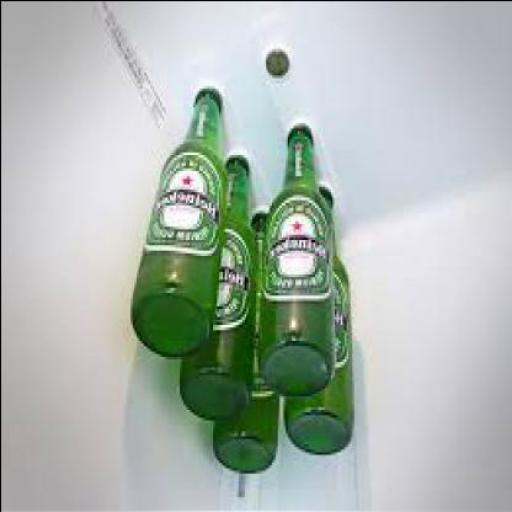glass: (131, 90, 232, 353), (180, 154, 262, 413), (262, 122, 336, 390), (214, 210, 278, 469), (284, 226, 354, 451)
